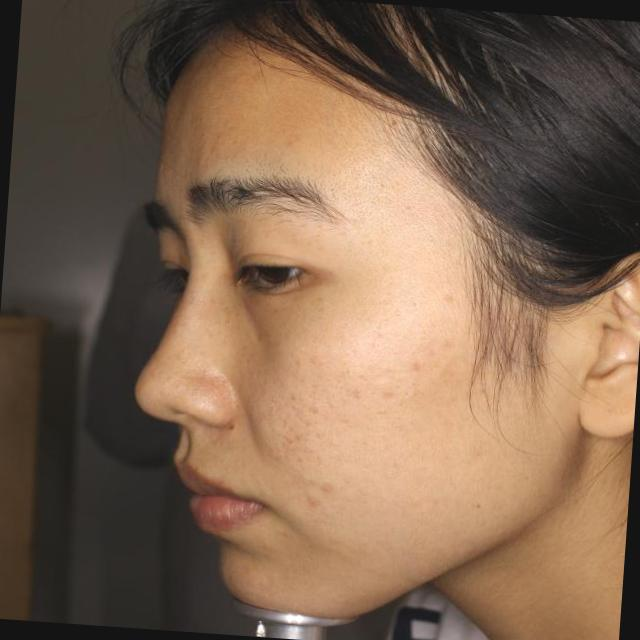acne: (301, 474, 341, 512)
